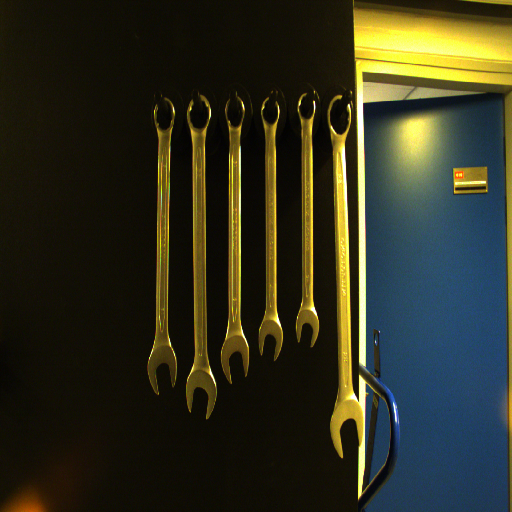bottom: (328, 401, 367, 459), (182, 366, 219, 422), (144, 346, 180, 397), (217, 335, 253, 386), (252, 317, 286, 364), (291, 305, 323, 351)
top: (325, 93, 354, 139), (147, 97, 179, 136), (183, 94, 213, 133), (221, 94, 247, 132), (294, 91, 319, 124), (260, 95, 283, 129)
